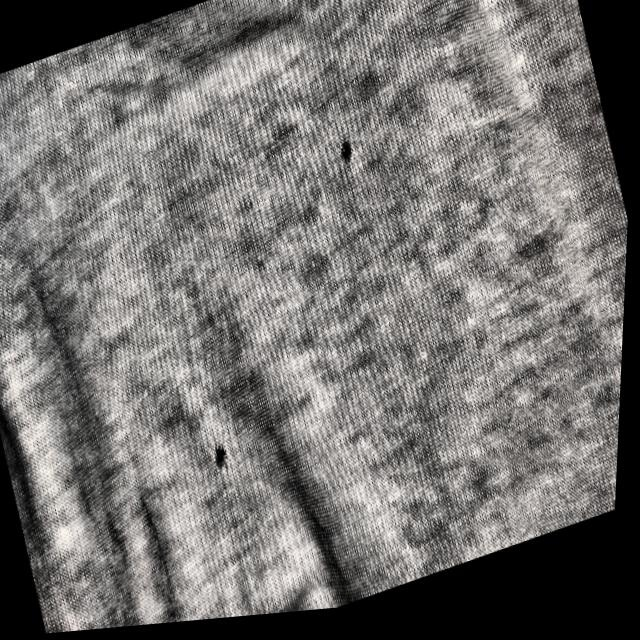Hole: (192, 432, 235, 486), (325, 127, 363, 180), (203, 435, 241, 483)
